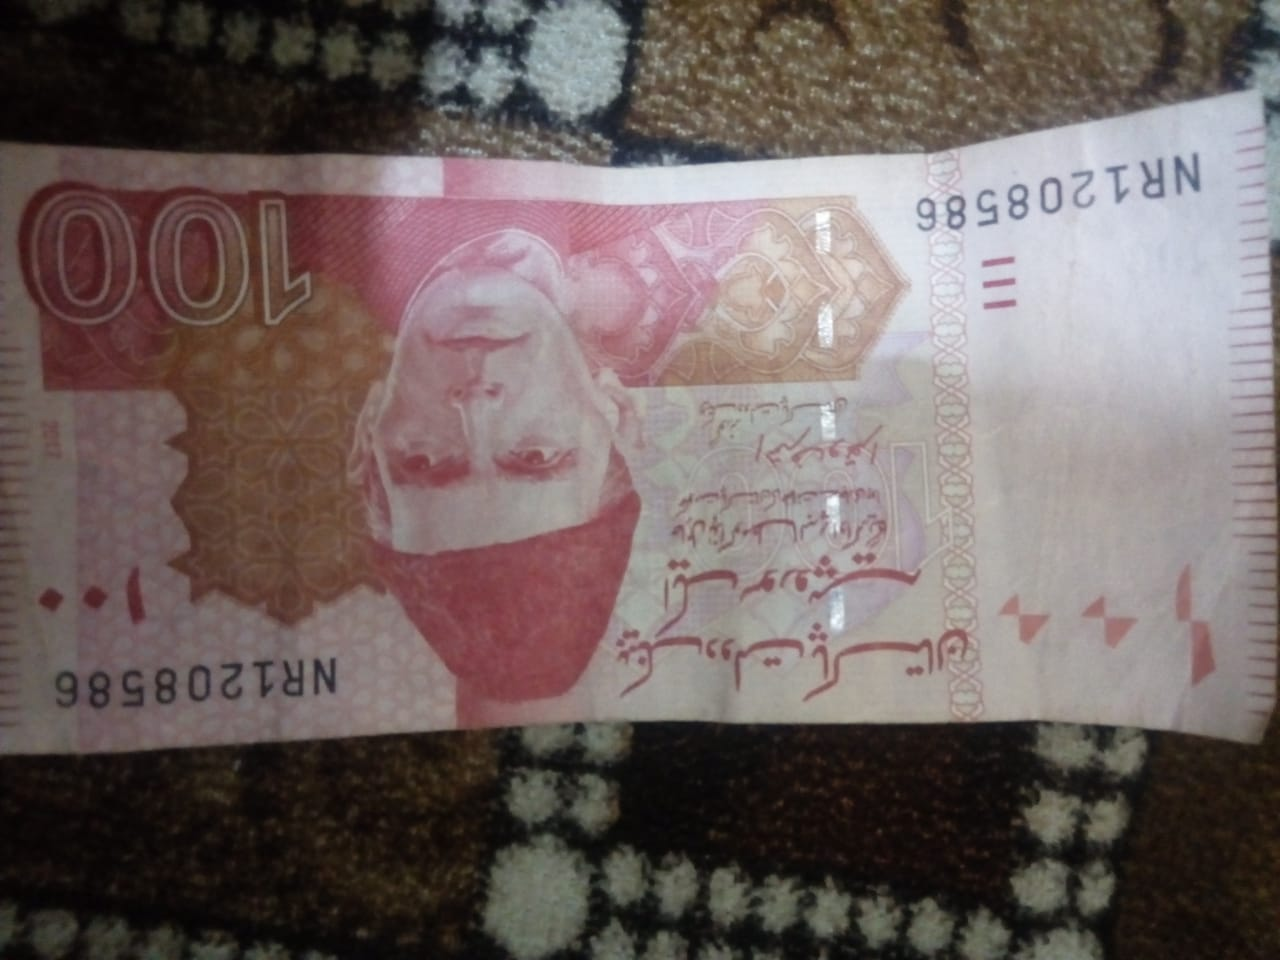100 rupee: (7, 112, 1273, 762)
